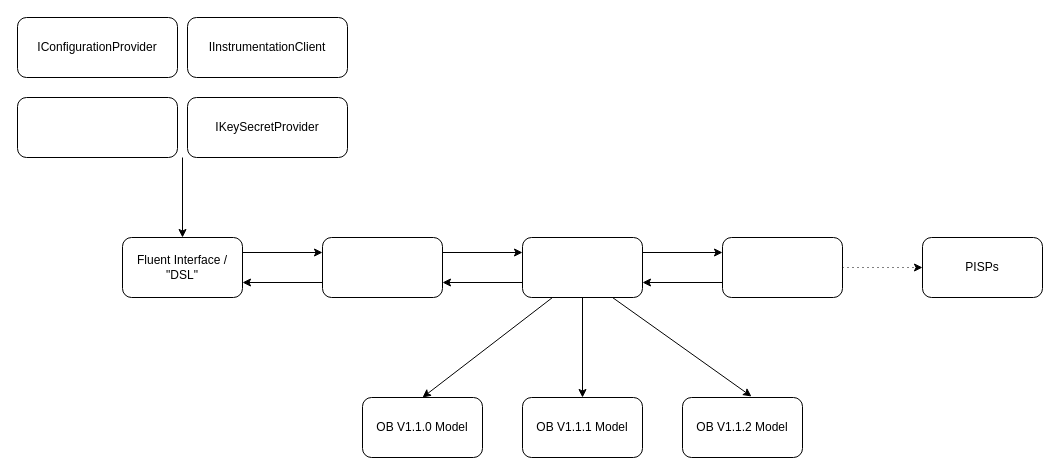
The diagram is 1060 pixels wide and 475 high, and some of its shapes have lost their labels. The shapes that lost their labels are listed below. From the top down, each one's centre as x and y in pixels, then its label:
At point (97, 127): "IClientProfileProvider".
At point (382, 267): "Public Model".
At point (582, 267): "Model Transformer".
At point (782, 267): "ApiClient".
